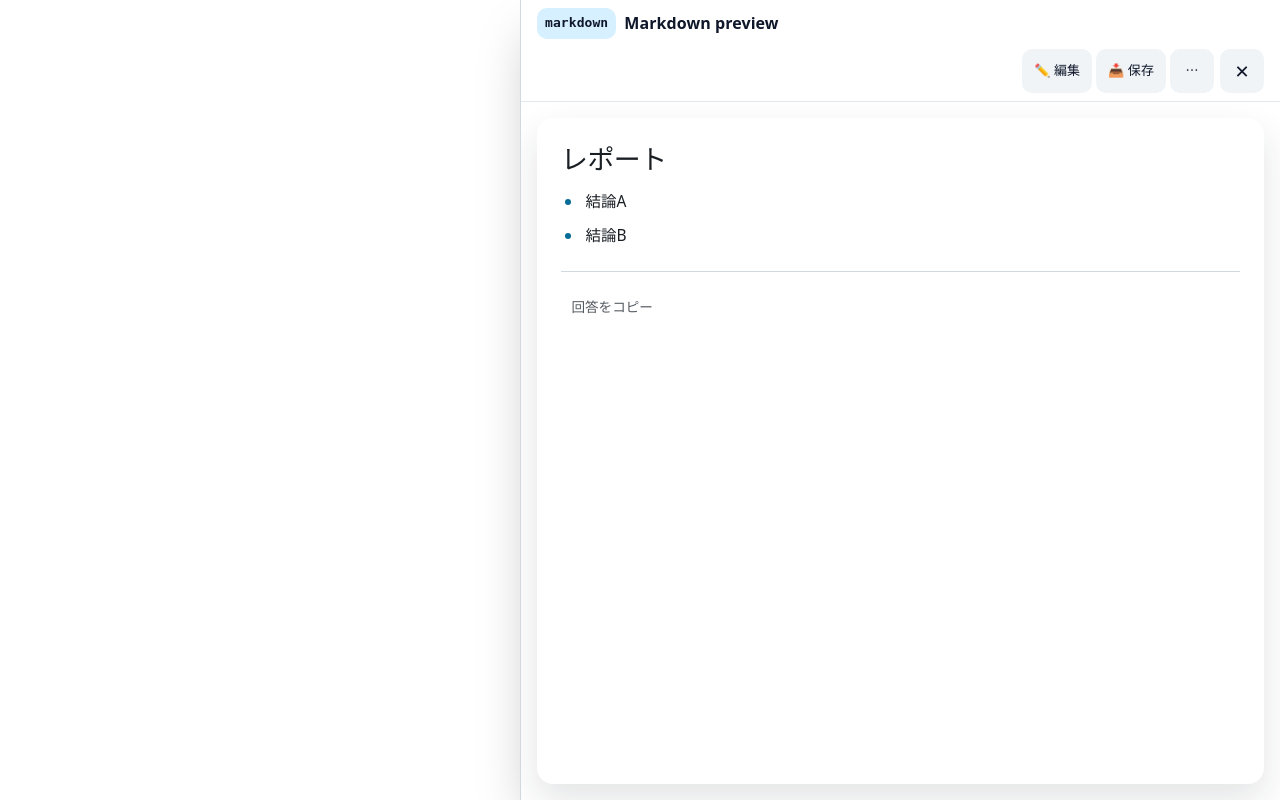
Test: ArtifactWorkspace action bar and sandbox runtime boundary › renders Markdown artifacts as finished content before source text
Check: the element with test id "artifact-markdown-preview" is shown, box x1=537 y1=118 x2=1264 y2=784
Check: the heading "レポート" is shown, box x1=561 y1=140 x2=667 y2=177
Click the button with test id "artifact-action-details" at point(1192, 71), box x1=1170 y1=49 x2=1214 y2=93
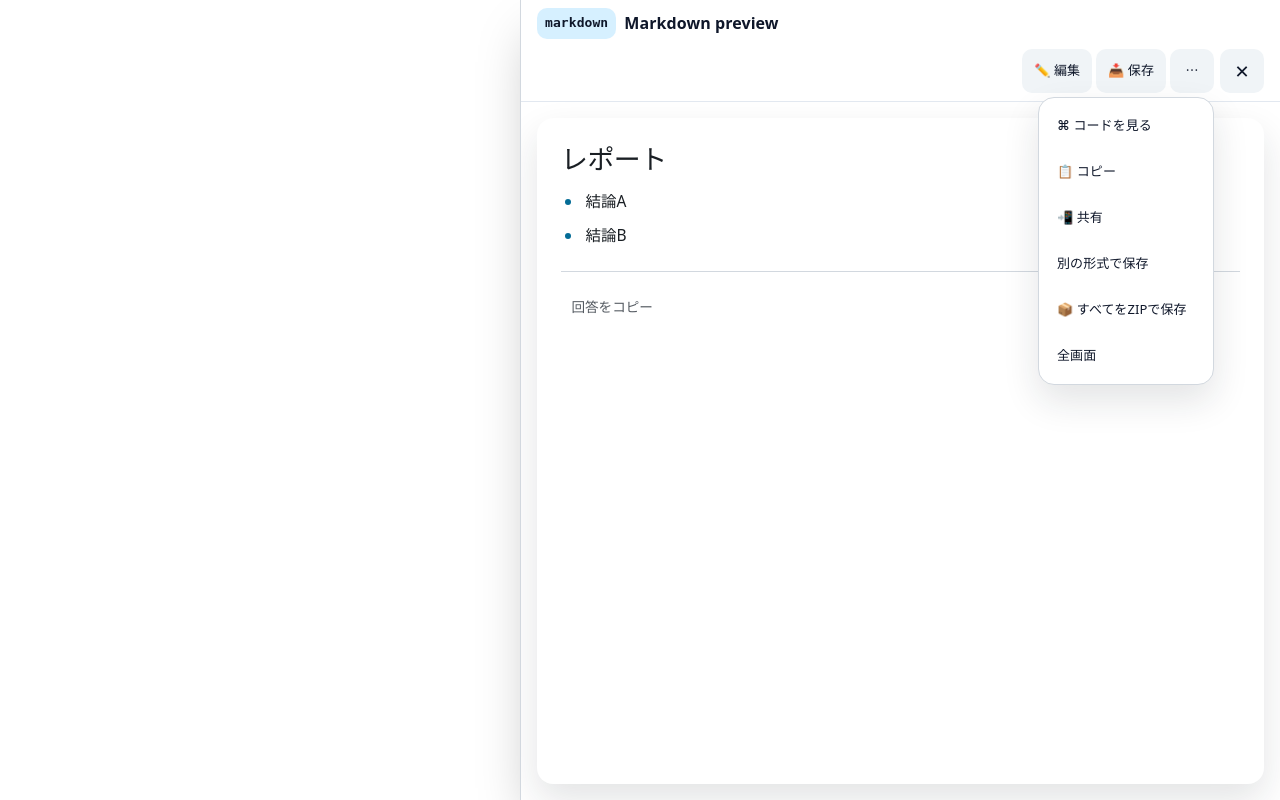
Click the menu item with test id "artifact-show-code" at point(1126, 126), box x1=1045 y1=104 x2=1207 y2=148
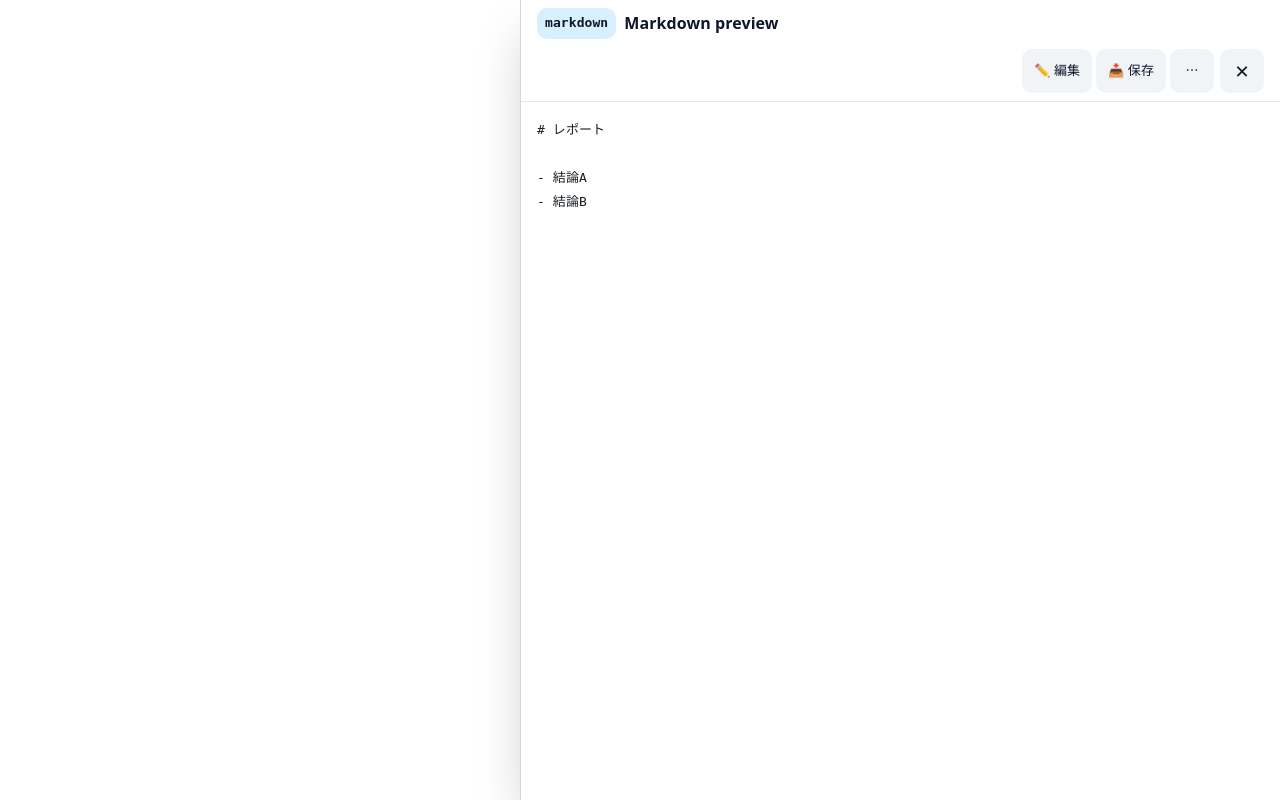
Check: the text "# レポート - 結論A - 結論B" is shown, box x1=537 y1=122 x2=605 y2=209
